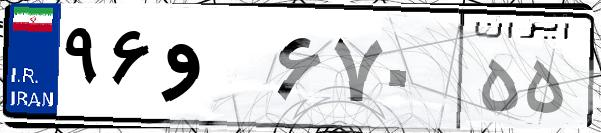0: (385, 28, 445, 110)
5: (475, 38, 525, 113), (525, 38, 570, 115)
6: (270, 28, 330, 110), (110, 28, 158, 98)
7: (330, 28, 385, 110)
9: (57, 26, 110, 100)
و: (158, 20, 270, 120)
